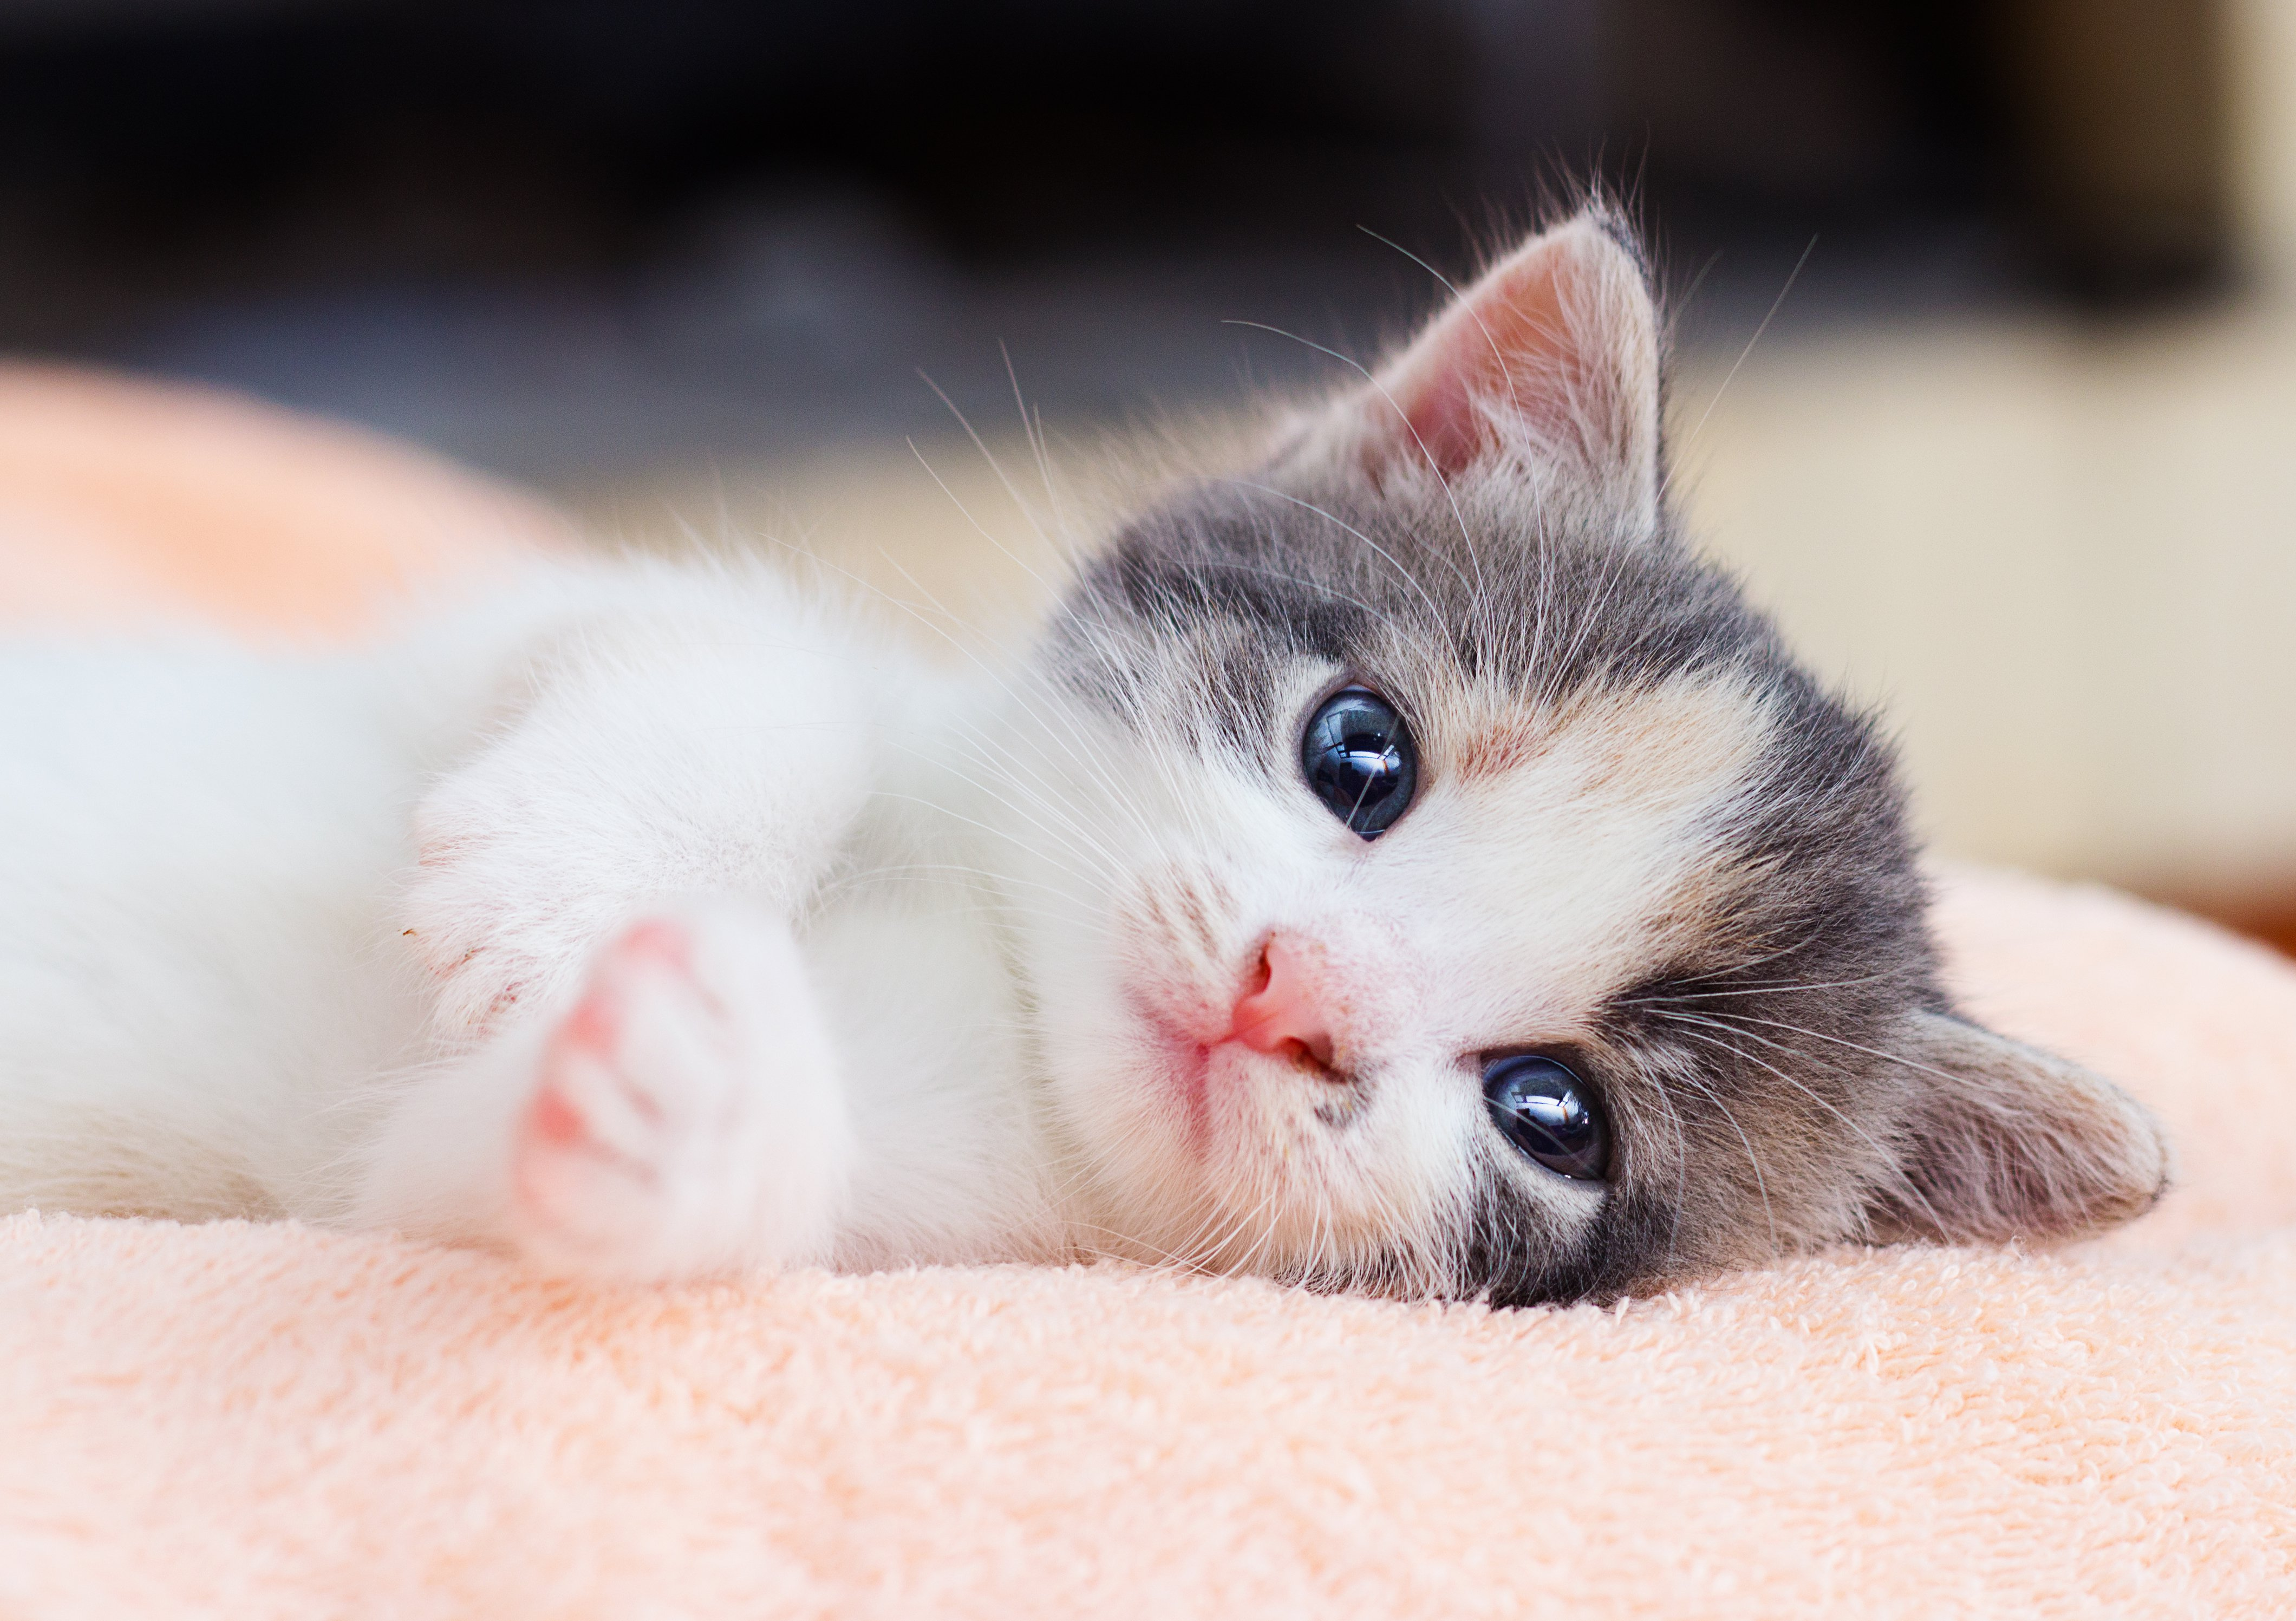cat: (116, 156, 2198, 1405)
